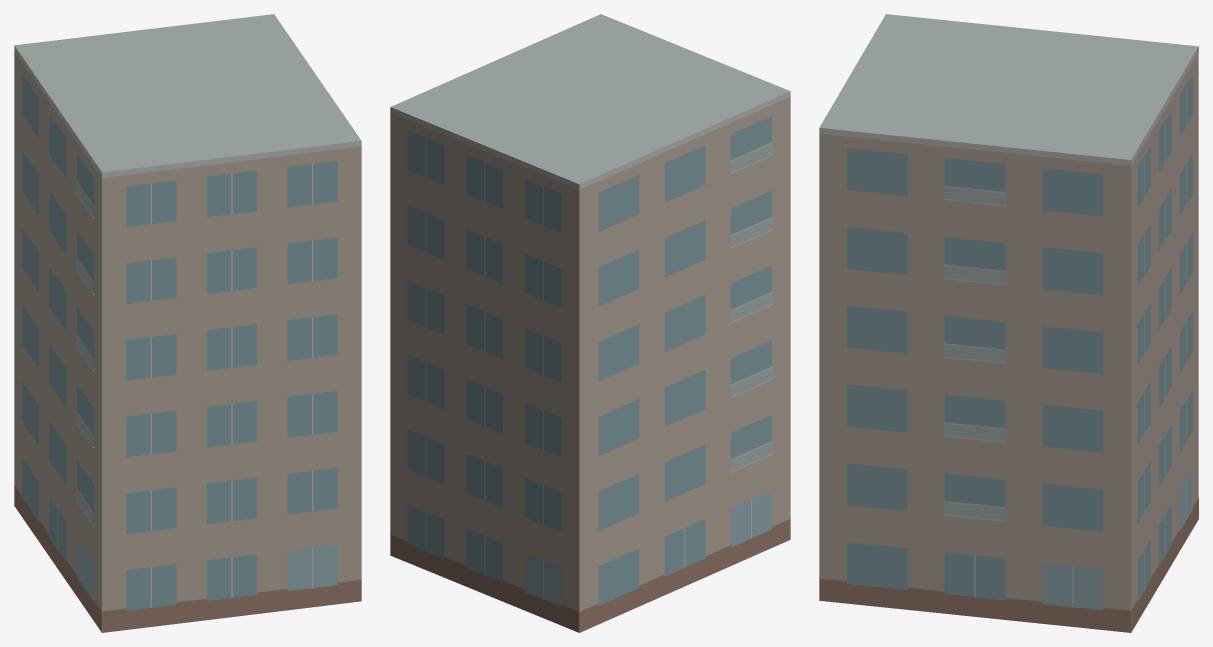
Rendered from survey-upis-32841456.glb.
The picture shows the model from 3 angles, left to right: view 1: azimuth 30°, elevation 25°; view 2: azimuth 150°, elevation 25°; view 3: azimuth 270°, elevation 25°; orthographic projection. The views are drawn at different scales.
Visible parts, largest first — view 1: survey-upis-32841456.tmp; view 2: survey-upis-32841456.tmp; view 3: survey-upis-32841456.tmp.
Boxes of the visible parts, bbox=[...] form: survey-upis-32841456.tmp: bbox=[14, 14, 361, 632]; survey-upis-32841456.tmp: bbox=[390, 14, 790, 632]; survey-upis-32841456.tmp: bbox=[819, 14, 1198, 632].
Size of the model in its own units: 13.06 by 19.7 by 14.34.
